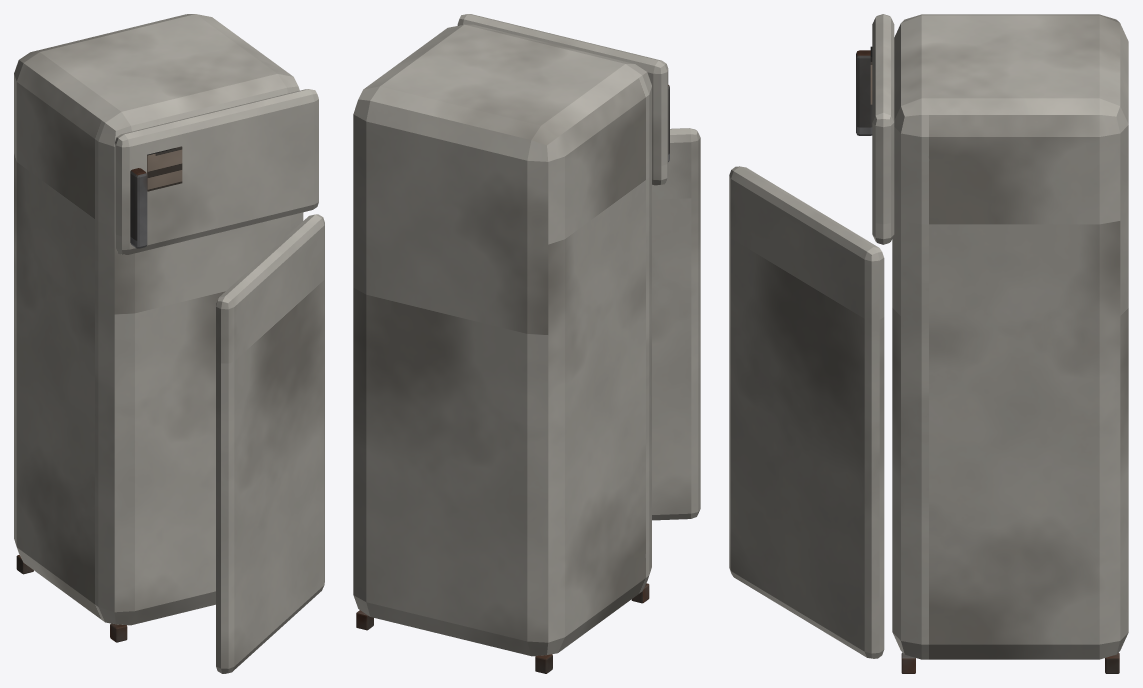
File: K02_old_refrigerator.glb
3 renders of one model, left to right at view 1: azimuth 30°, elevation 25°; view 2: azimuth 150°, elevation 25°; view 3: azimuth 270°, elevation 25°, orthographic. The views are drawn at different scales.
Visible parts, largest first — view 1: K02_old_refrigerator; view 2: K02_old_refrigerator; view 3: K02_old_refrigerator.
Boxes of the visible parts, bbox=[...] form: K02_old_refrigerator: bbox=[14, 14, 324, 673]; K02_old_refrigerator: bbox=[353, 14, 700, 673]; K02_old_refrigerator: bbox=[729, 14, 1128, 673].
Size of the model in its own units: 0.6948 by 1.7 by 1.08.
Materials: 6 (6 with a texture image).
